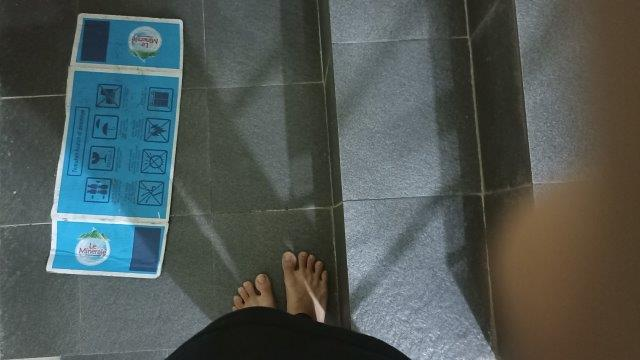kardus: (47, 14, 182, 277)
